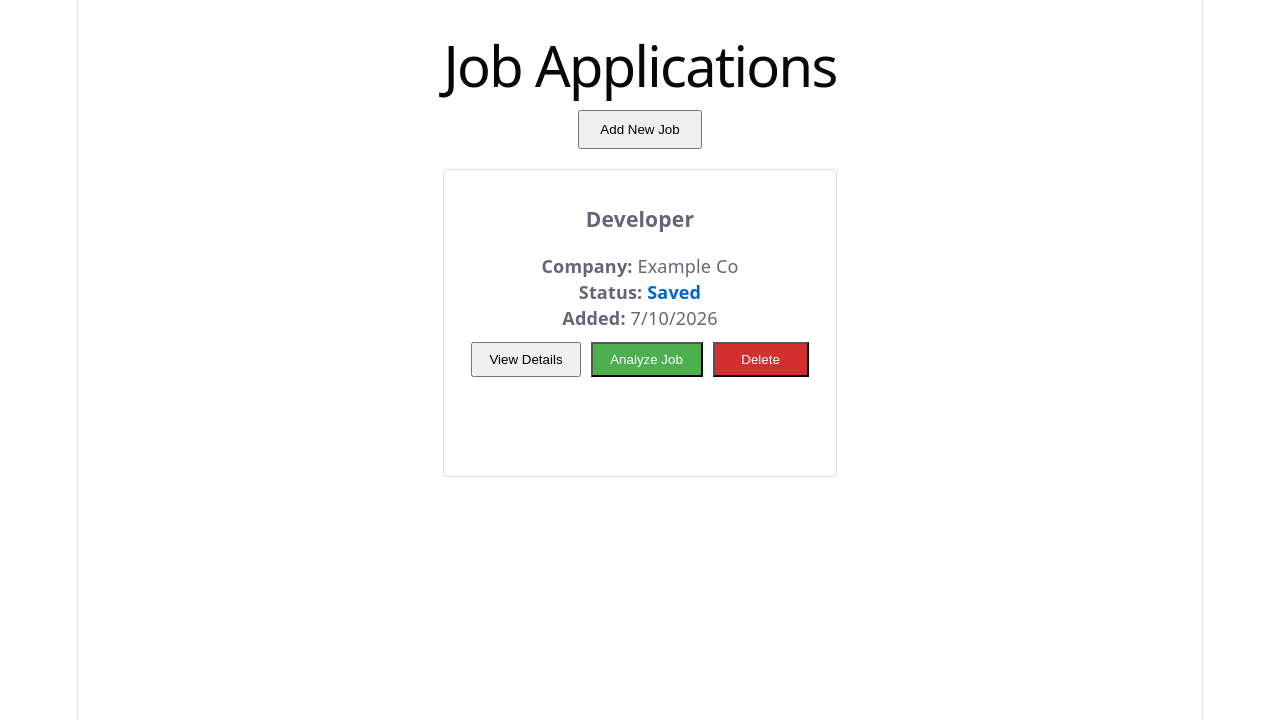
Test: JobListPage feedback › guides the user to create a profile when the API reports one is missing
Click the button "Analyze Job" at (646, 359), box [590,342,702,377]
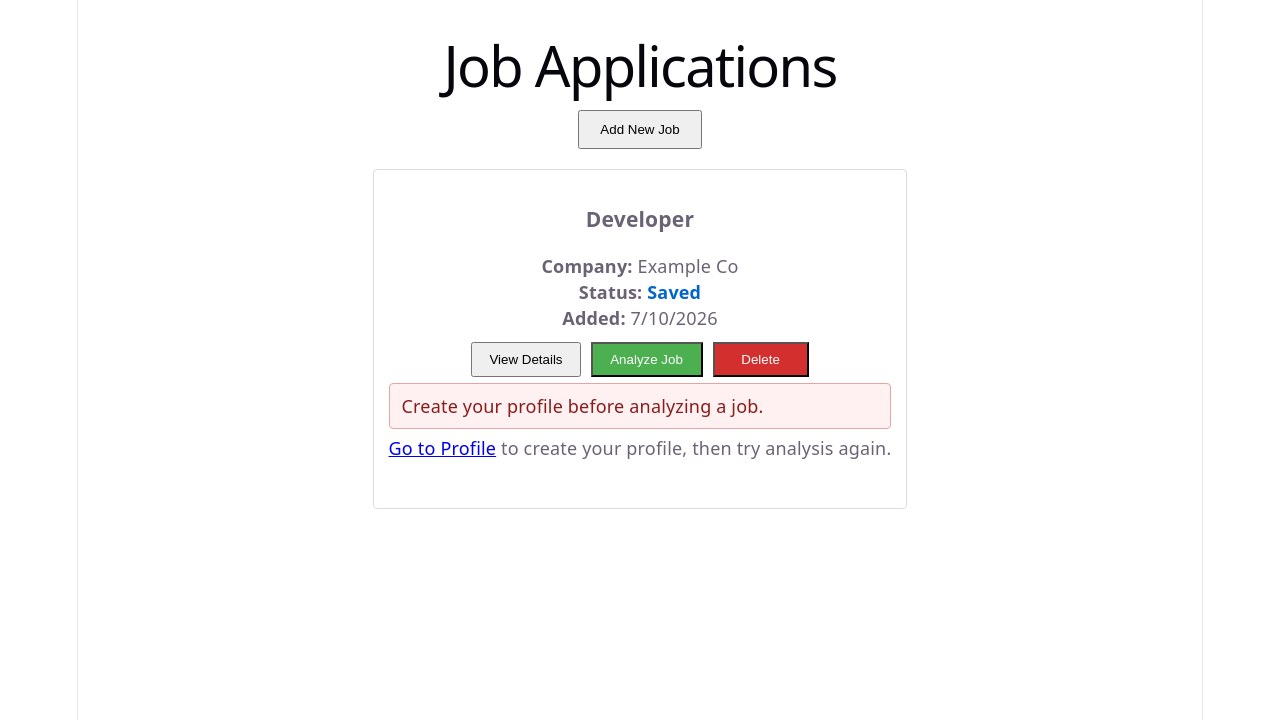
Expected: the message "Create your profile before analyzing a job." is shown, [389,383,892,429]
